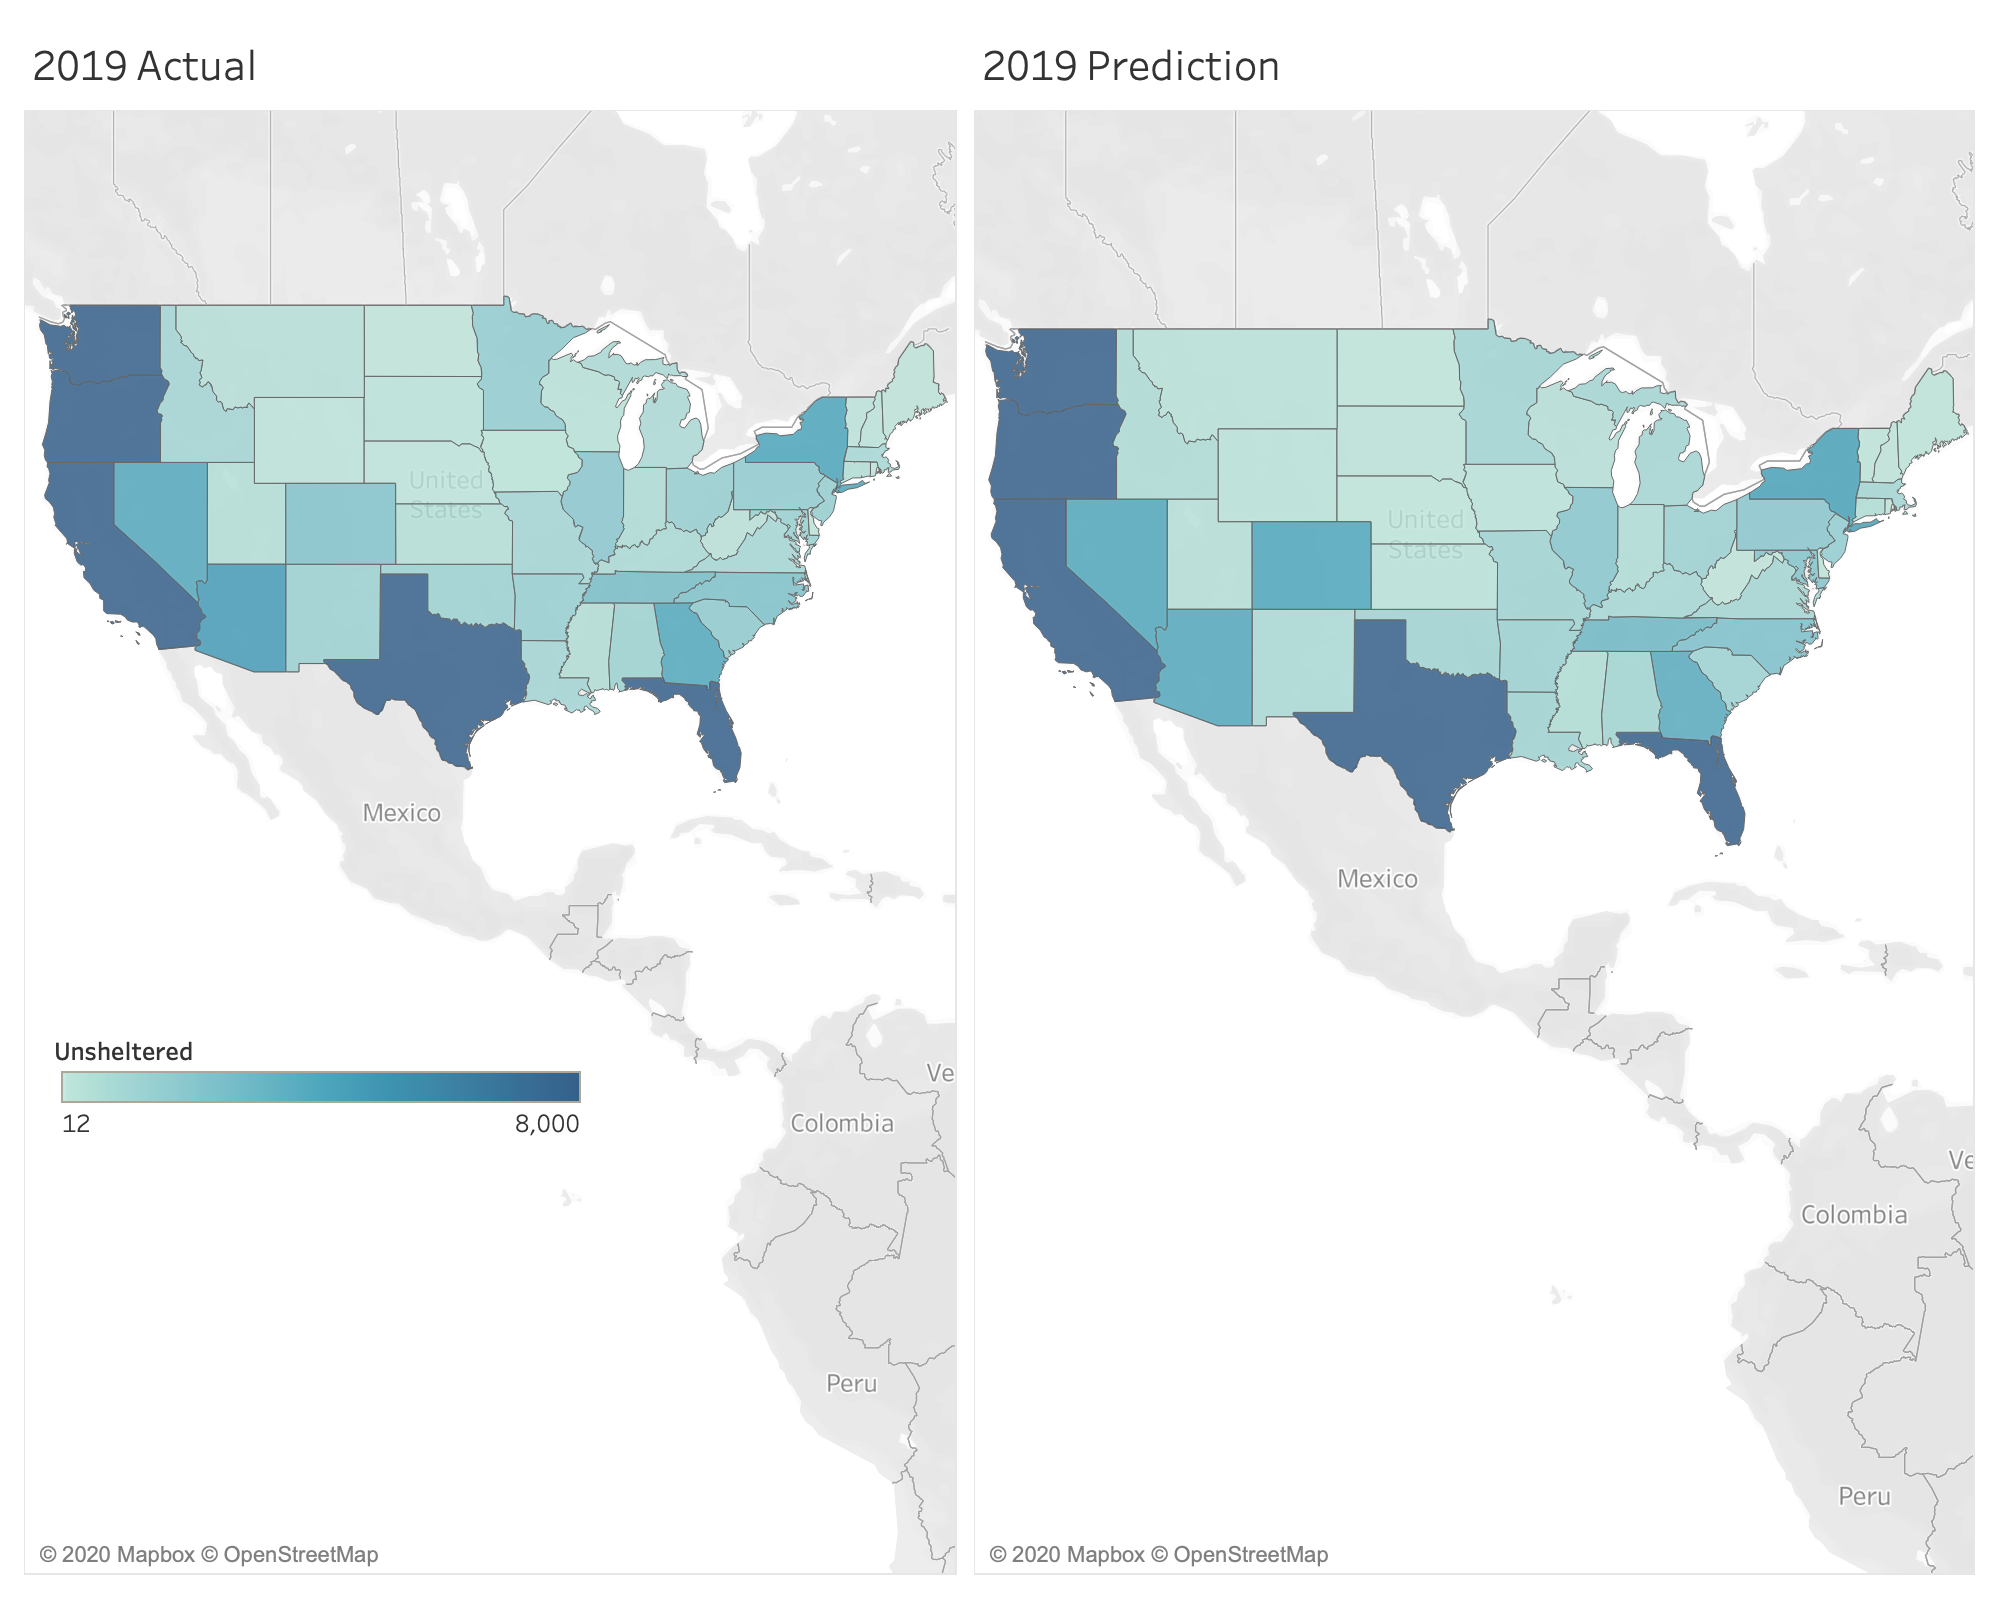

This screenshot's page, from the dashboard's own definition file:
{"tool":"tableau","page":{"name":"Dashboard 2","canvas":[1000,800],"ordinal":1},"visuals":[{"type":"worksheet","title":"Sheet 1","mark":"Automatic","box":[8,8,492,784]},{"type":"worksheet","title":"Sheet 3","mark":"Multipolygon","box":[500,8,492,784]}]}

Visuals, with their boxes in screenshot pixels (x1, y1, x2, y2), scaled from the page's 1000x800 canvas onto the 2000x1600 screenshot:
"Sheet 1" worksheet: Rect(16, 16, 1000, 1584)
"Sheet 3" worksheet (Multipolygon marks): Rect(1000, 16, 1984, 1584)
